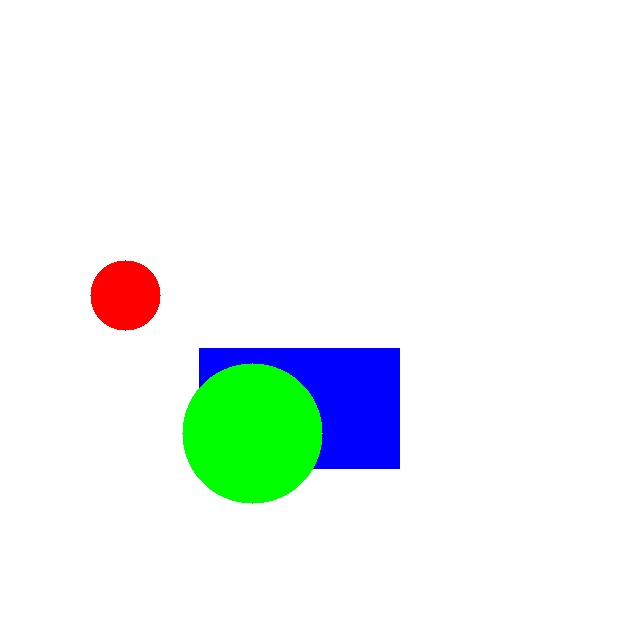cartao: (199, 348, 399, 468)
rosca_externa: (182, 363, 322, 503)
rosca_interna: (90, 260, 160, 330)
